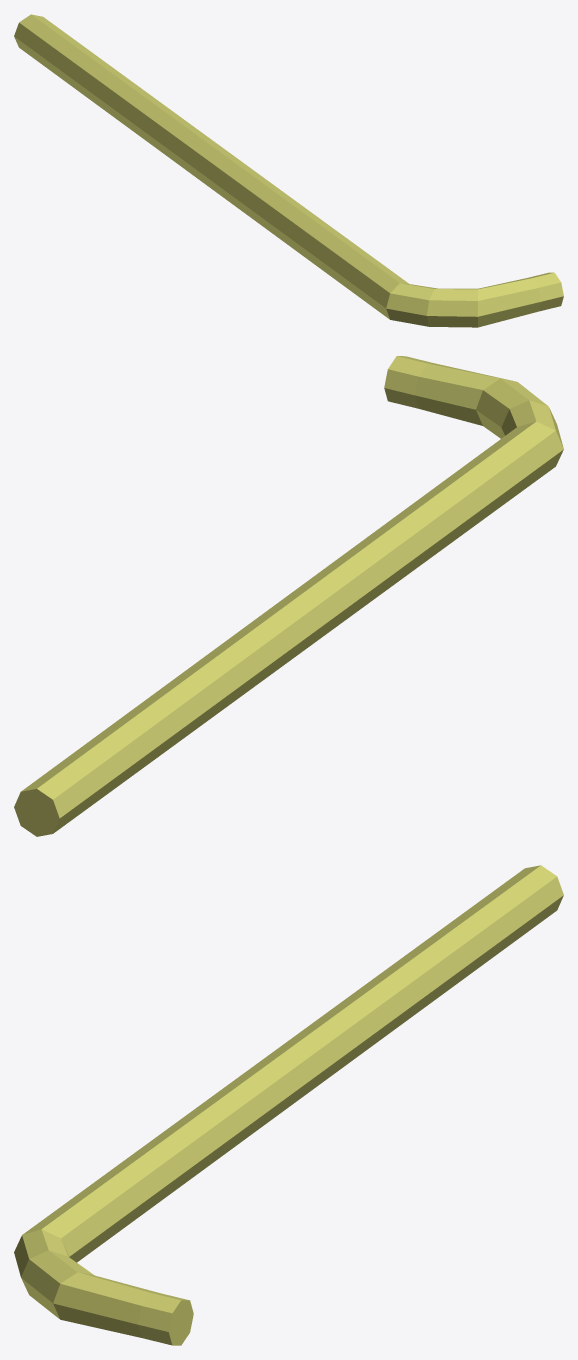
The model's file is steam-pipe.dae.
3 views of the same model, one above another, from view 1: azimuth 30°, elevation 25°; view 2: azimuth 150°, elevation 25°; view 3: azimuth 330°, elevation 25° (orthographic). The views are drawn at different scales.
Parts seen in each view (by area): view 1: Cylinder_011; view 2: Cylinder_011; view 3: Cylinder_011.
Boxes of the visible parts, bbox=[...] form: Cylinder_011: bbox=[14, 14, 563, 327]; Cylinder_011: bbox=[14, 356, 563, 836]; Cylinder_011: bbox=[14, 865, 563, 1345].
Bounding box in the file's own units: 0.271 × 1.3 × 0.0666.
